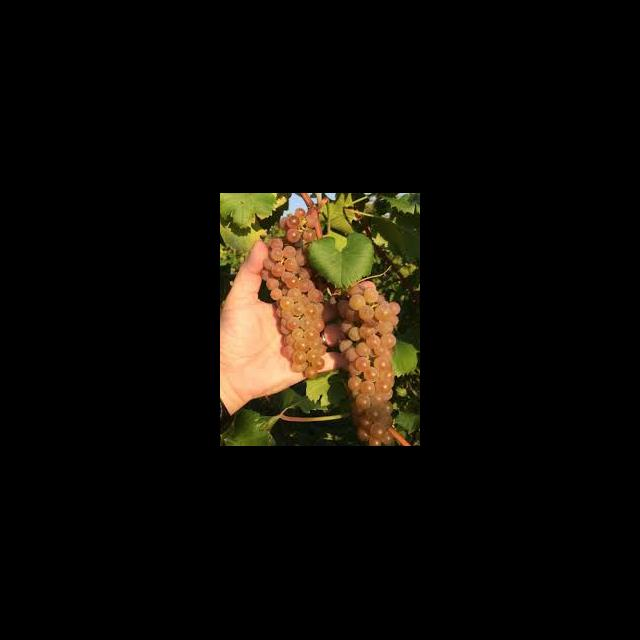grape: (338, 284, 397, 442), (266, 238, 334, 375)
